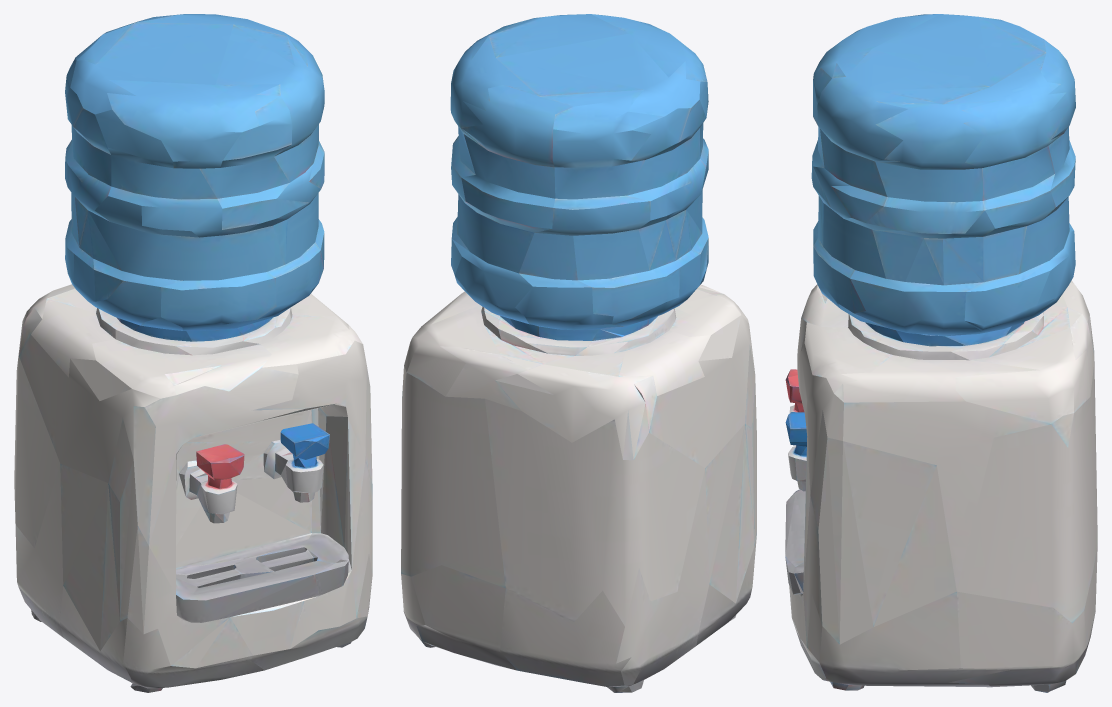
Rendered from office-water-cooler.glb.
The picture shows the model from 3 angles, left to right: view 1: azimuth 30°, elevation 25°; view 2: azimuth 150°, elevation 25°; view 3: azimuth 270°, elevation 25°; orthographic projection.
Visible parts, largest first — view 1: office-water-cooler-fit; view 2: office-water-cooler-fit; view 3: office-water-cooler-fit.
Part boxes in pixels (box(x1,y1,x2,y2)): office-water-cooler-fit: box(14, 14, 372, 692); office-water-cooler-fit: box(401, 14, 756, 692); office-water-cooler-fit: box(785, 14, 1097, 692).
Bounding box in the file's own units: 0.7634 × 1.6 × 0.7762.
1 material, 1 textured.
